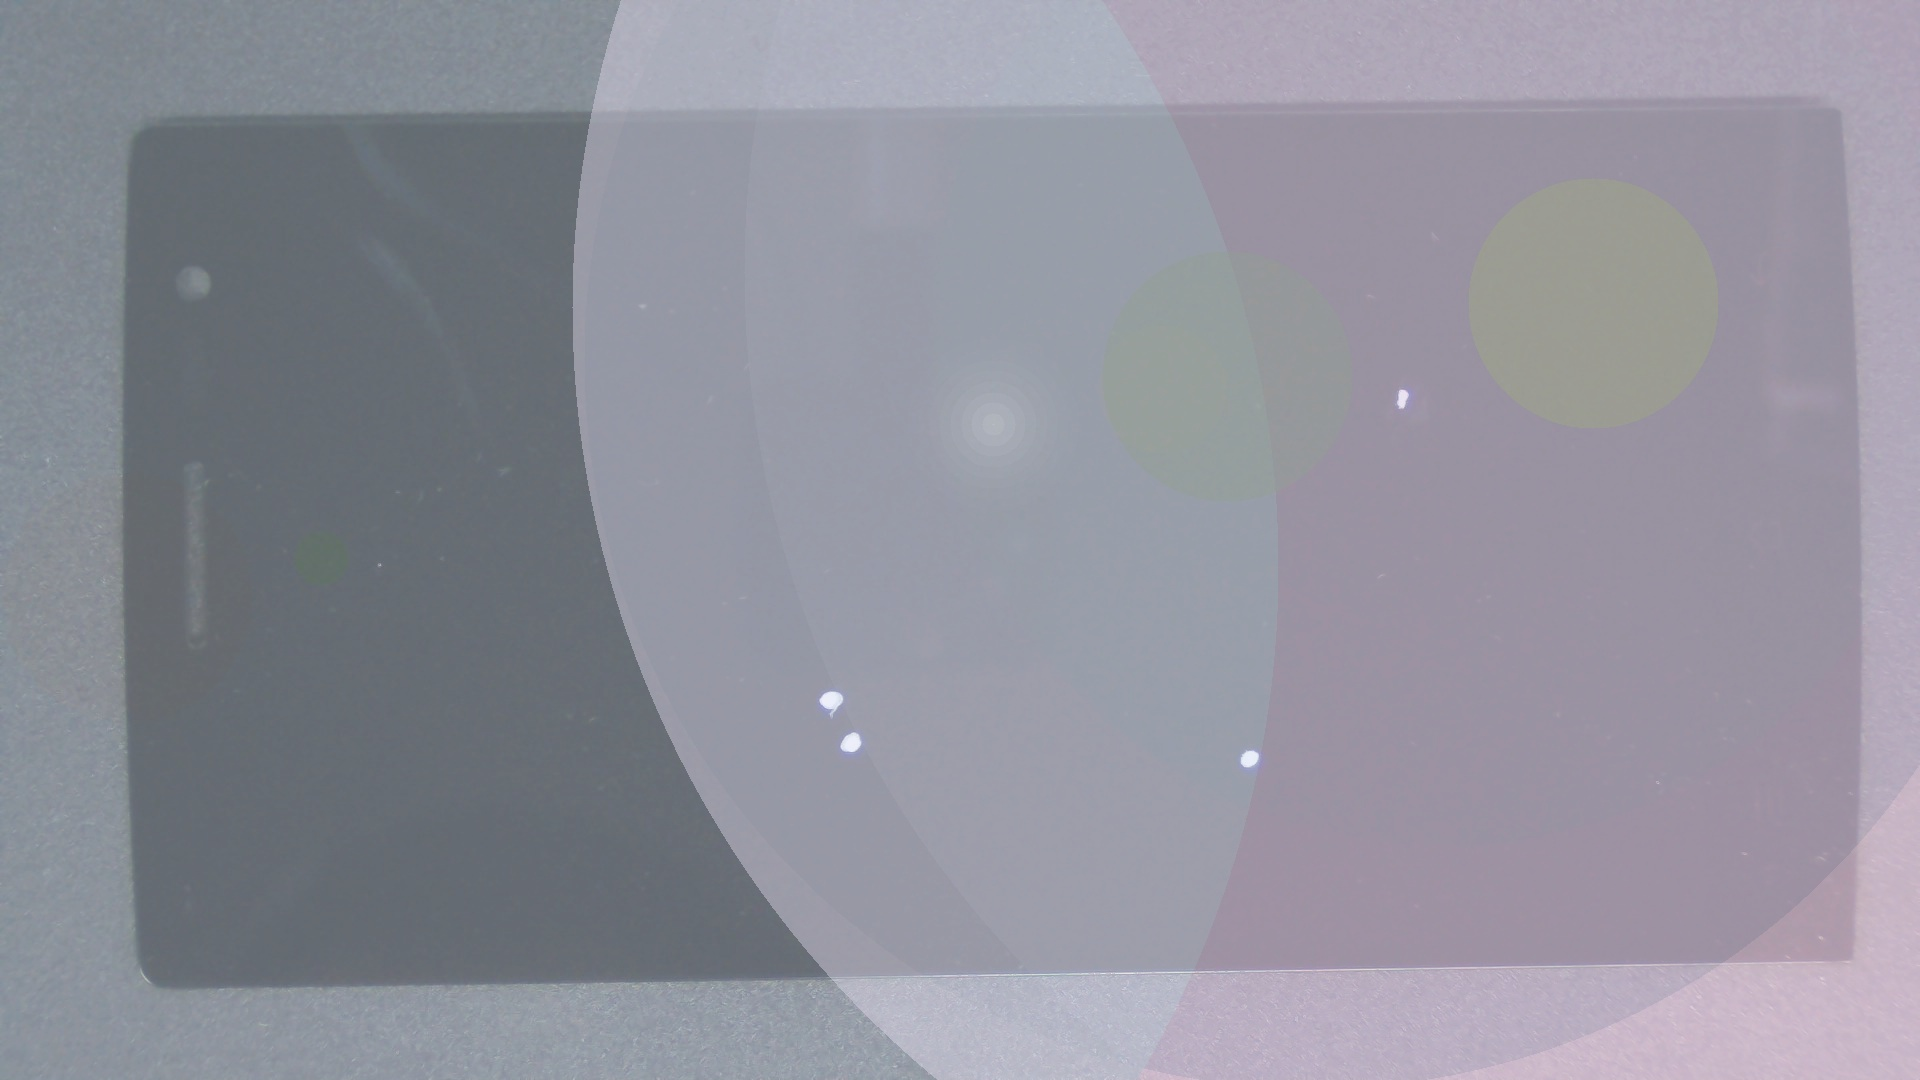oil: (625, 373, 1871, 1080), (427, 364, 1279, 1080), (415, 344, 1246, 1035), (700, 193, 1920, 582)
